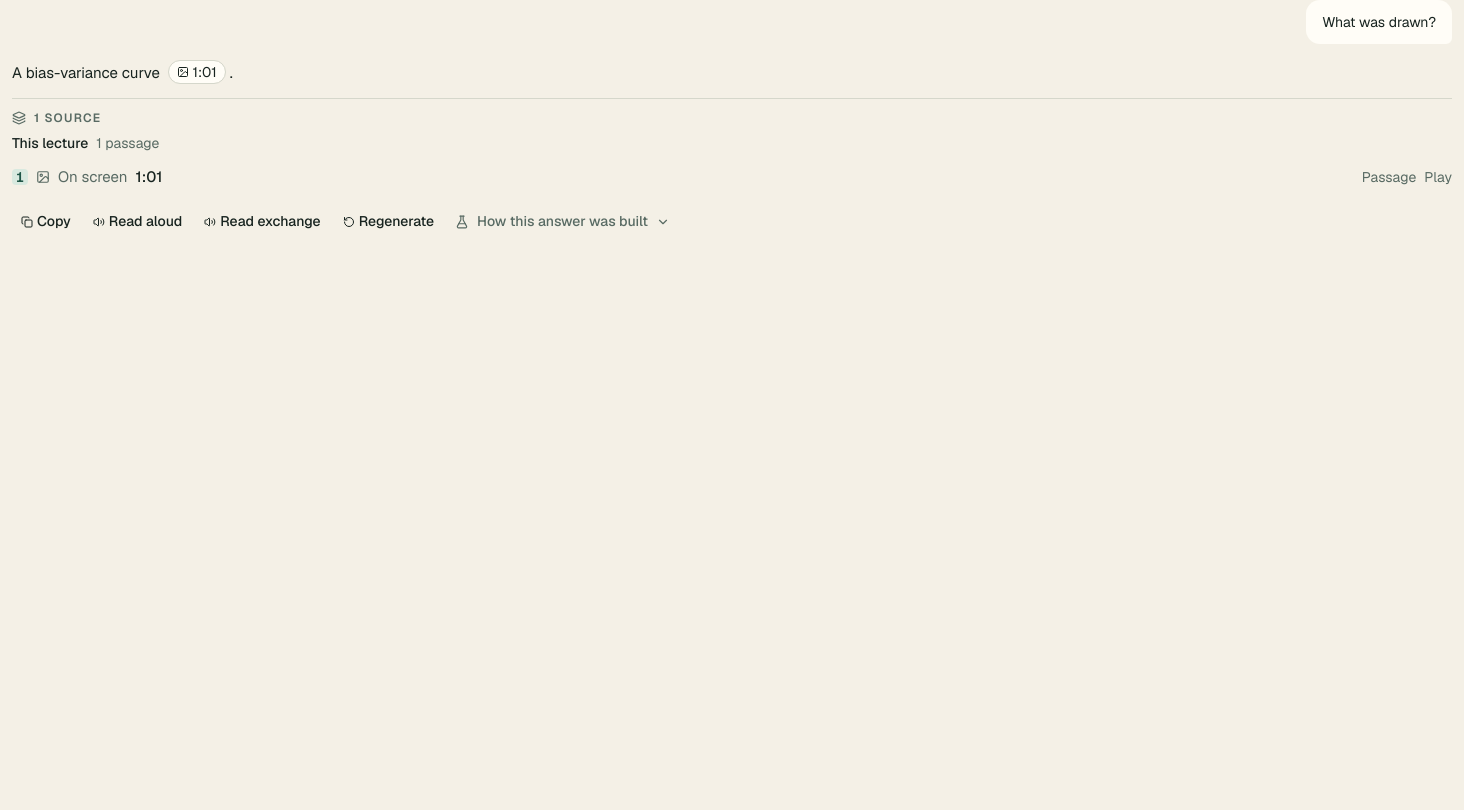
Test: VideoTurnView › separates the reading view from the diagnostic view
Expected: the heading "1 source" is shown, [12,110,101,126]
Expected: the text "0.710" is not shown
Step 1. Click the button "How this answer was built" → (563, 222), box [447,208,678,236]
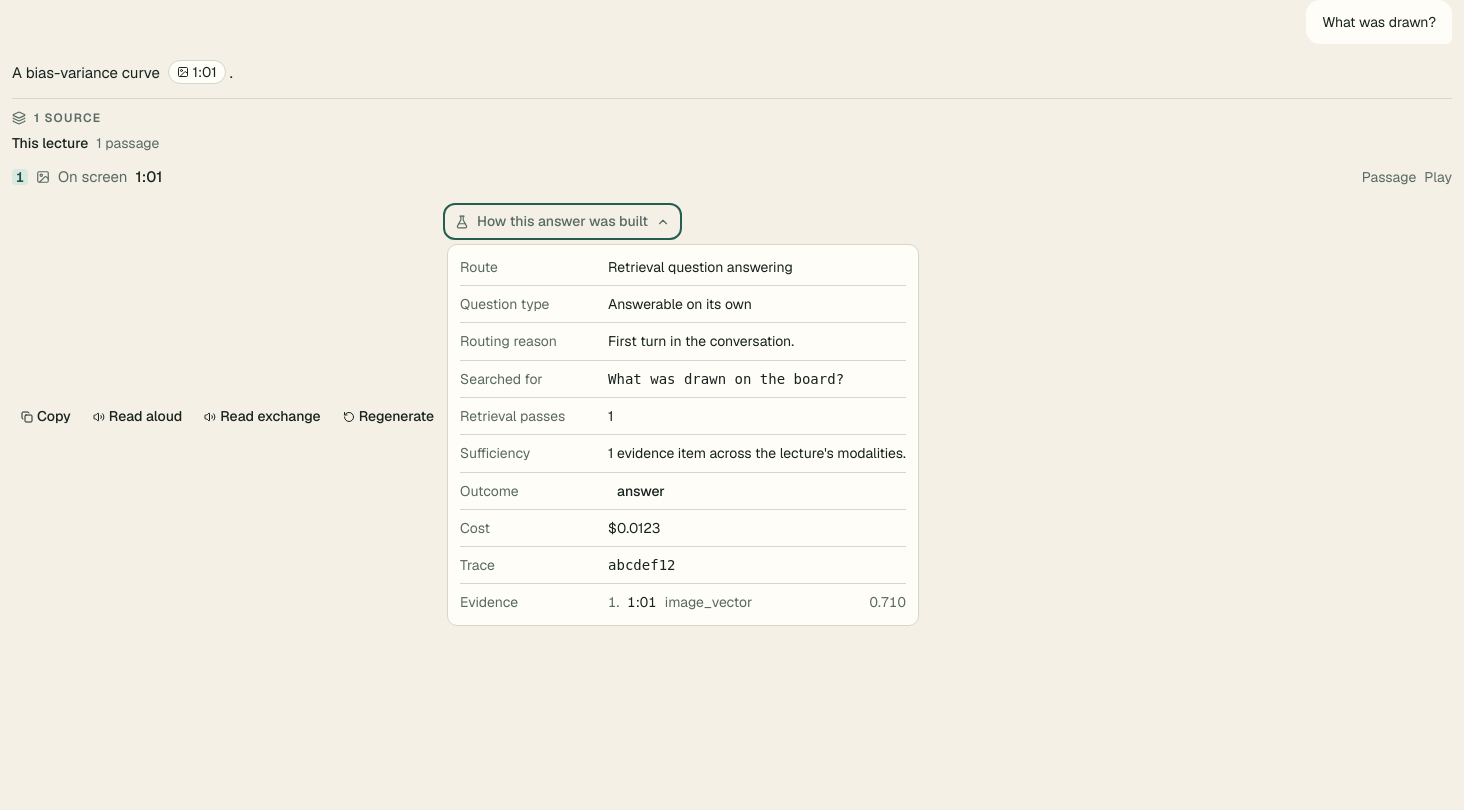
Expected: the text "0.710" is shown, [870,592,906,613]
Expected: the text "What was drawn on the board?" is shown, [608,371,844,387]
